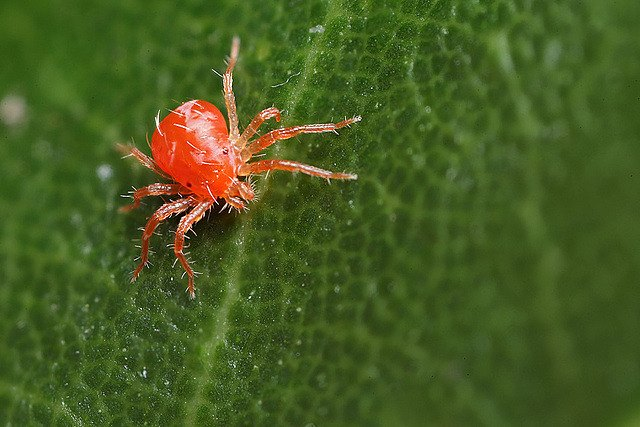Mites: (99, 24, 366, 315)
